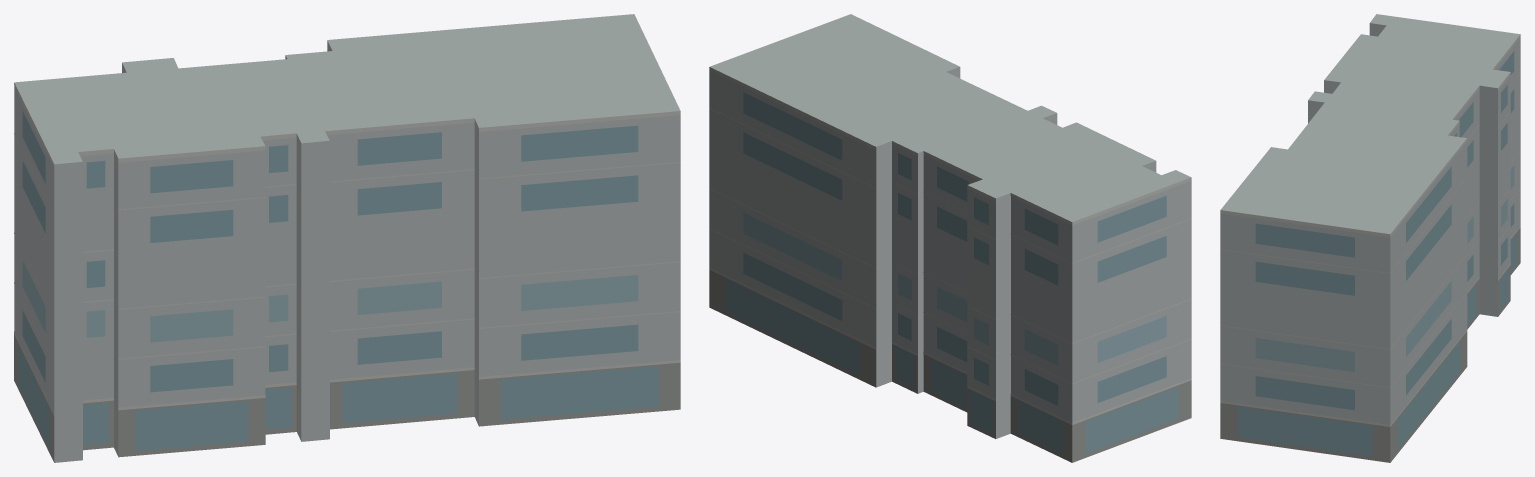
The model's file is survey-upis-32531645.glb.
3 views of the same model, side by side, from view 1: azimuth 30°, elevation 25°; view 2: azimuth 150°, elevation 25°; view 3: azimuth 270°, elevation 25° (orthographic). The views are drawn at different scales.
Visible parts, largest first — view 1: survey-upis-32531645.tmp; view 2: survey-upis-32531645.tmp; view 3: survey-upis-32531645.tmp.
Part boxes in pixels (x1,y1,x2,y2): survey-upis-32531645.tmp: (14, 14, 680, 462); survey-upis-32531645.tmp: (709, 14, 1191, 462); survey-upis-32531645.tmp: (1220, 14, 1520, 462).
Size of the model in its own units: 35.44 by 17.15 by 20.43.
